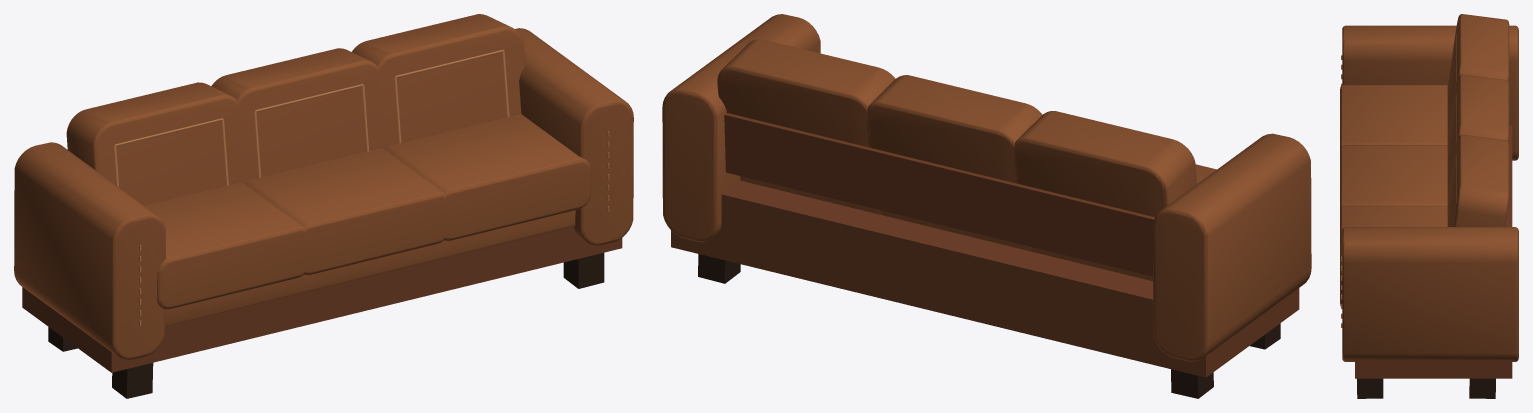
The model's file is cognac-leather-sofa-seatRadius-min.glb.
3 views of the same model, side by side, from view 1: azimuth 30°, elevation 25°; view 2: azimuth 150°, elevation 25°; view 3: azimuth 270°, elevation 25° (orthographic). The views are drawn at different scales.
Parts seen in each view (by area): view 1: sofa-part-28, sofa-part-4, seat-cushion-2-part-0, seat-cushion-1-part-0, back-cushion-3-part-0, back-cushion-1-part-0, back-cushion-2-part-0, seat-cushion-3-part-0, sofa-part-7, sofa-part-5, sofa-part-0, sofa-part-2; view 2: sofa-part-4, sofa-part-28, sofa-part-6, back-cushion-3-part-0, back-cushion-1-part-0, back-cushion-2-part-0, sofa-part-7, sofa-part-3, sofa-part-1, seat-cushion-3-part-0, seat-cushion-2-part-0, seat-cushion-1-part-0; view 3: sofa-part-7, sofa-part-28, seat-cushion-2-part-0, seat-cushion-3-part-0, back-cushion-1-part-0, back-cushion-2-part-0, back-cushion-3-part-0, sofa-part-4, seat-cushion-1-part-0, sofa-part-0, sofa-part-1.
Part boxes in pixels (box(x1,y1,x2,y2)): sofa-part-28: box(14, 142, 165, 359); sofa-part-4: box(22, 227, 622, 372); seat-cushion-2-part-0: box(244, 148, 448, 275); seat-cushion-1-part-0: box(385, 114, 591, 240); back-cushion-3-part-0: box(66, 82, 245, 205); back-cushion-1-part-0: box(352, 14, 524, 148); back-cushion-2-part-0: box(211, 48, 385, 182); seat-cushion-3-part-0: box(144, 182, 308, 309); sofa-part-7: box(515, 28, 633, 245); sofa-part-5: box(165, 210, 575, 326); sofa-part-0: box(563, 252, 604, 288); sofa-part-2: box(112, 363, 153, 398); sofa-part-4: box(671, 180, 1299, 377); sofa-part-28: box(1152, 133, 1311, 361); sofa-part-6: box(724, 113, 1154, 276); back-cushion-3-part-0: box(1013, 111, 1197, 217); back-cushion-1-part-0: box(717, 39, 895, 147); back-cushion-2-part-0: box(866, 75, 1042, 183); sofa-part-7: box(662, 14, 820, 242); sofa-part-3: box(1171, 369, 1213, 398); sofa-part-1: box(698, 254, 740, 283); seat-cushion-3-part-0: box(1028, 164, 1216, 281); seat-cushion-2-part-0: box(881, 210, 1032, 251); seat-cushion-1-part-0: box(740, 176, 883, 215); sofa-part-7: box(1342, 227, 1518, 361); sofa-part-28: box(1342, 25, 1518, 160); seat-cushion-2-part-0: box(1340, 145, 1447, 209); seat-cushion-3-part-0: box(1340, 85, 1447, 148); back-cushion-1-part-0: box(1447, 134, 1509, 226); back-cushion-2-part-0: box(1447, 74, 1509, 202); back-cushion-3-part-0: box(1447, 14, 1509, 142); sofa-part-4: box(1355, 125, 1512, 378); seat-cushion-1-part-0: box(1340, 205, 1447, 306); sofa-part-0: box(1357, 378, 1383, 398); sofa-part-1: box(1469, 378, 1495, 398).
Bounding box in the file's own units: 2.64 × 1.08 × 0.886.
